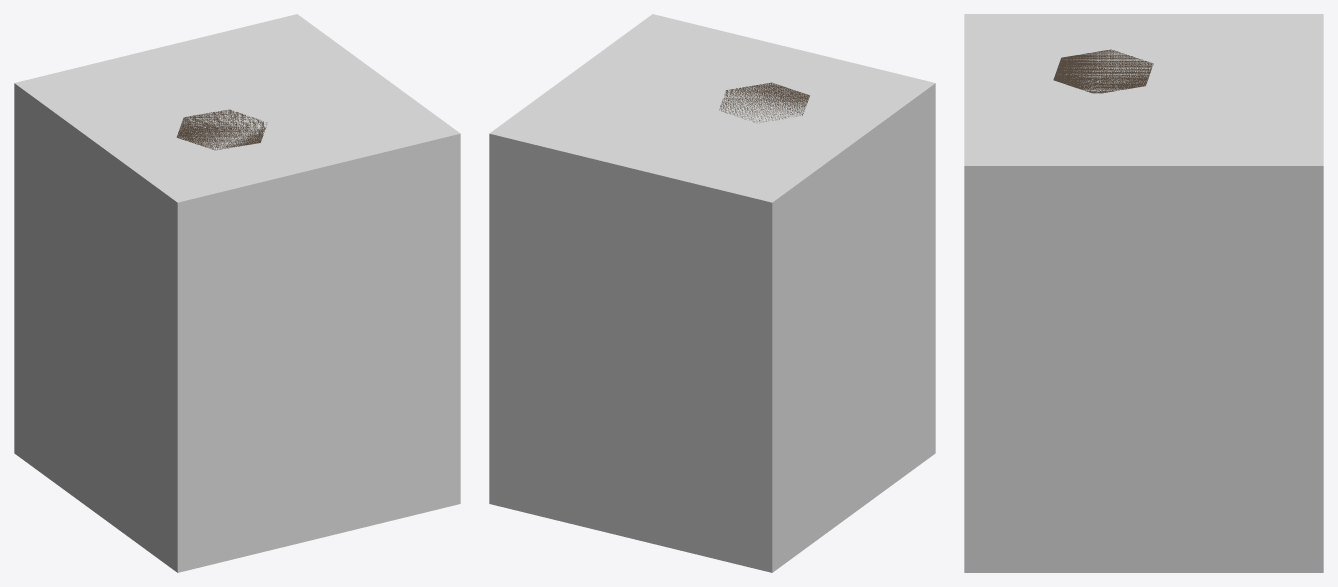
The model's file is anchor_basalt_c.glb.
The picture shows the model from 3 angles, left to right: view 1: azimuth 30°, elevation 25°; view 2: azimuth 150°, elevation 25°; view 3: azimuth 270°, elevation 25°; orthographic projection. The views are drawn at different scales.
Parts seen in each view (by area): view 1: anchor_basalt_c-col, anchor_basalt_c; view 2: anchor_basalt_c-col, anchor_basalt_c; view 3: anchor_basalt_c-col, anchor_basalt_c.
Boxes of the visible parts, x1,y1,x2,y2 form: anchor_basalt_c-col: (14,14,460,572); anchor_basalt_c: (176,109,267,150); anchor_basalt_c-col: (489,14,935,572); anchor_basalt_c: (719,82,809,122); anchor_basalt_c-col: (964,14,1323,572); anchor_basalt_c: (1053,49,1153,93).
Size of the model in its own units: 8 by 10 by 8.
